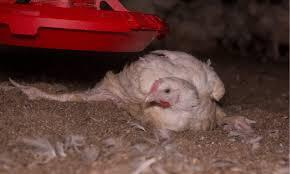AbNormal: (7, 48, 273, 143)
